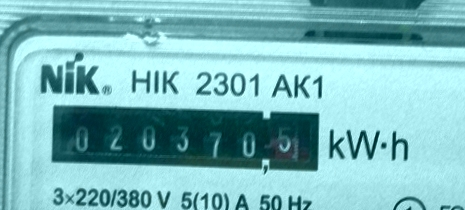0: (238, 129, 257, 160), (72, 123, 89, 153), (140, 123, 155, 151)
2: (106, 122, 124, 154)
3: (173, 123, 189, 153)
5: (275, 123, 293, 155)
7: (205, 130, 221, 160)
screen: (43, 99, 327, 181)
